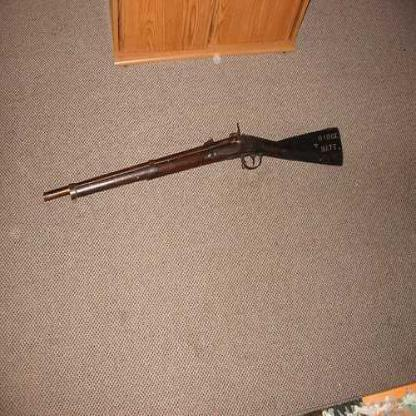Heavy Gun: (42, 122, 347, 207)
